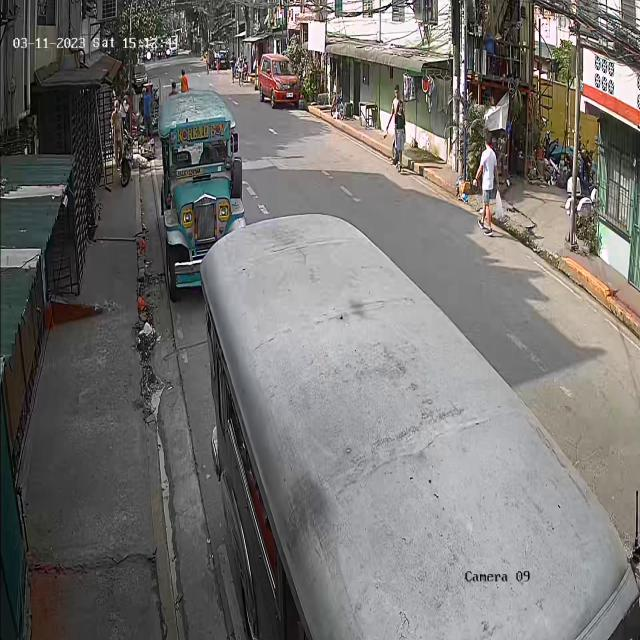human: (475, 131, 504, 237)
trash: (491, 186, 507, 224)
